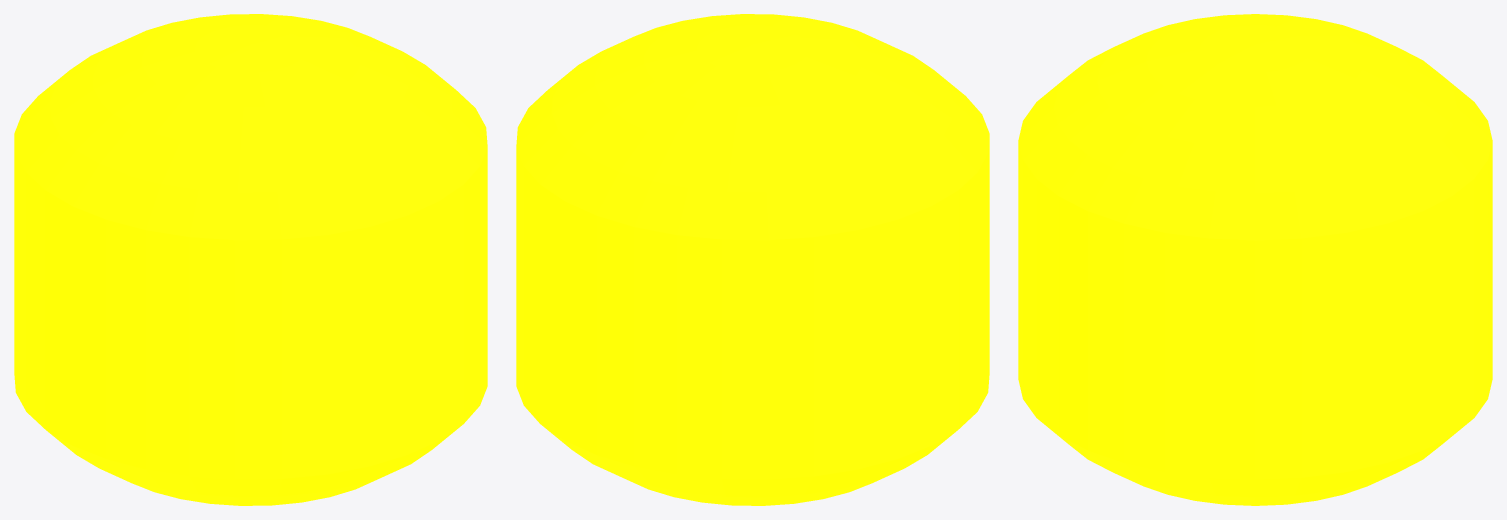
Rendered from crude_capsule.gltf.
3 views of the same model, side by side, from view 1: azimuth 30°, elevation 25°; view 2: azimuth 150°, elevation 25°; view 3: azimuth 270°, elevation 25° (orthographic).
Parts seen in each view (by area): view 1: Sphere; view 2: Sphere; view 3: Sphere.
Boxes of the visible parts, x1=… form: Sphere: x1=14, y1=14, x2=487, y2=505; Sphere: x1=516, y1=14, x2=989, y2=505; Sphere: x1=1018, y1=14, x2=1492, y2=505.
Size of the model in its own units: 2 by 2 by 2.
